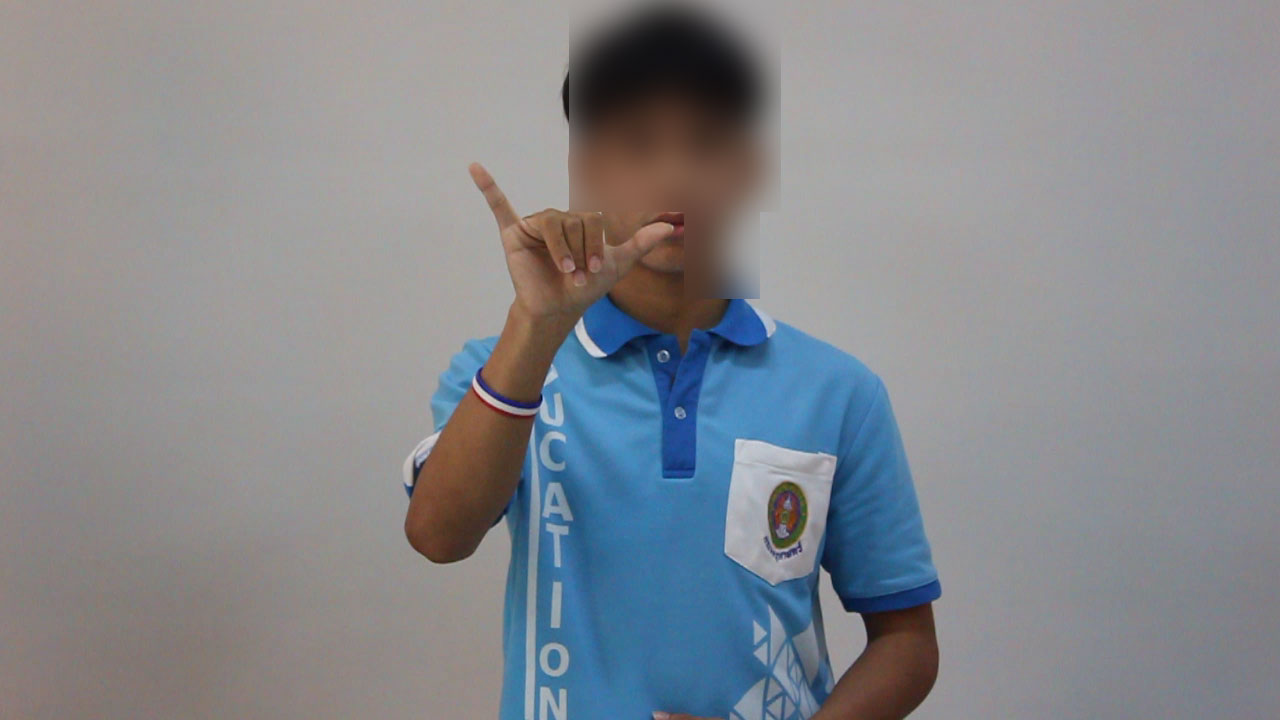yor: (451, 156, 683, 347)
